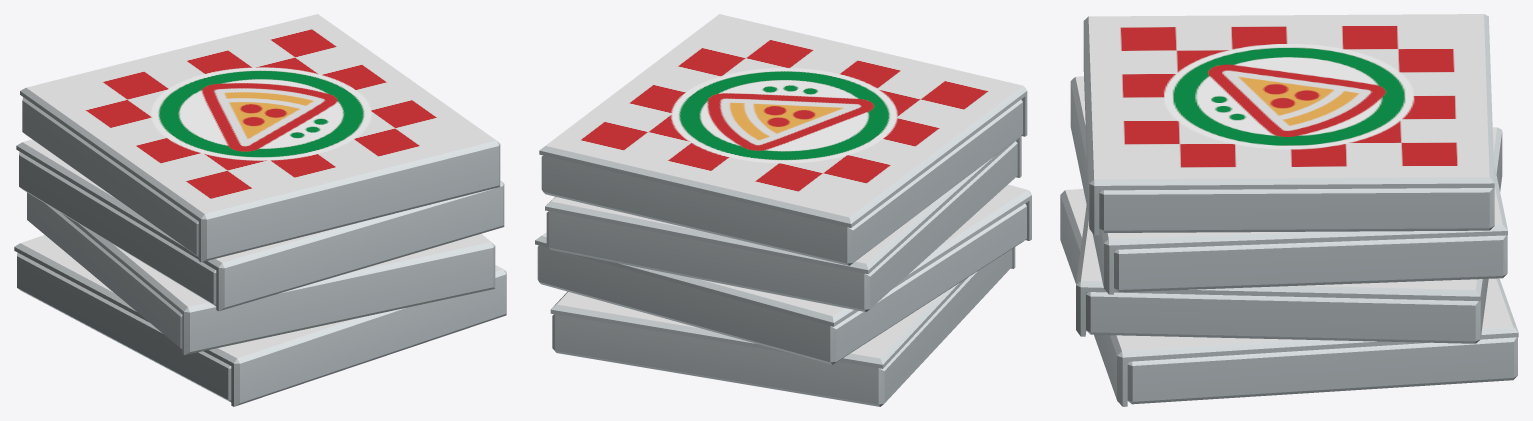
Rendered from pizzabox_stacked.obj.
3 views of the same model, side by side, from view 1: azimuth 30°, elevation 25°; view 2: azimuth 150°, elevation 25°; view 3: azimuth 270°, elevation 25° (orthographic). The views are drawn at different scales.
Parts seen in each view (by area): view 1: pizzabox_stacked_Cube.468; view 2: pizzabox_stacked_Cube.468; view 3: pizzabox_stacked_Cube.468.
Part boxes in pixels (box(x1,y1,x2,y2)): pizzabox_stacked_Cube.468: box(14, 14, 506, 406); pizzabox_stacked_Cube.468: box(535, 14, 1031, 406); pizzabox_stacked_Cube.468: box(1060, 14, 1518, 406).
Bounding box in the file's own units: 2.28 × 1.2 × 2.32.
Materials: 1 (1 with a texture image).
